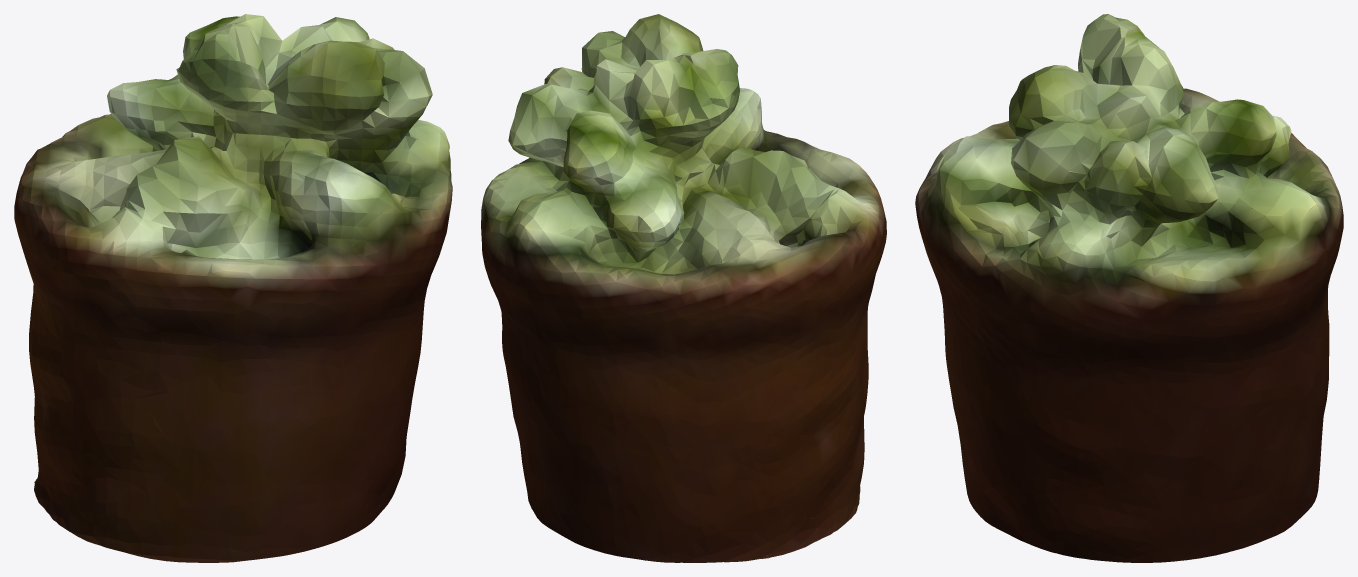
File: plant.obj
3 views of the same model, side by side, from view 1: azimuth 30°, elevation 25°; view 2: azimuth 150°, elevation 25°; view 3: azimuth 270°, elevation 25° (orthographic). The views are drawn at different scales.
Visible parts, largest first — view 1: cut_cloth_plant; view 2: cut_cloth_plant; view 3: cut_cloth_plant.
Part boxes in pixels (x1,y1,x2,y2): cut_cloth_plant: [14, 14, 452, 562]; cut_cloth_plant: [481, 14, 886, 562]; cut_cloth_plant: [915, 14, 1343, 562].
Bounding box in the file's own units: 0.0746 × 0.0881 × 0.0736.
Materials: 1 (1 with a texture image).
